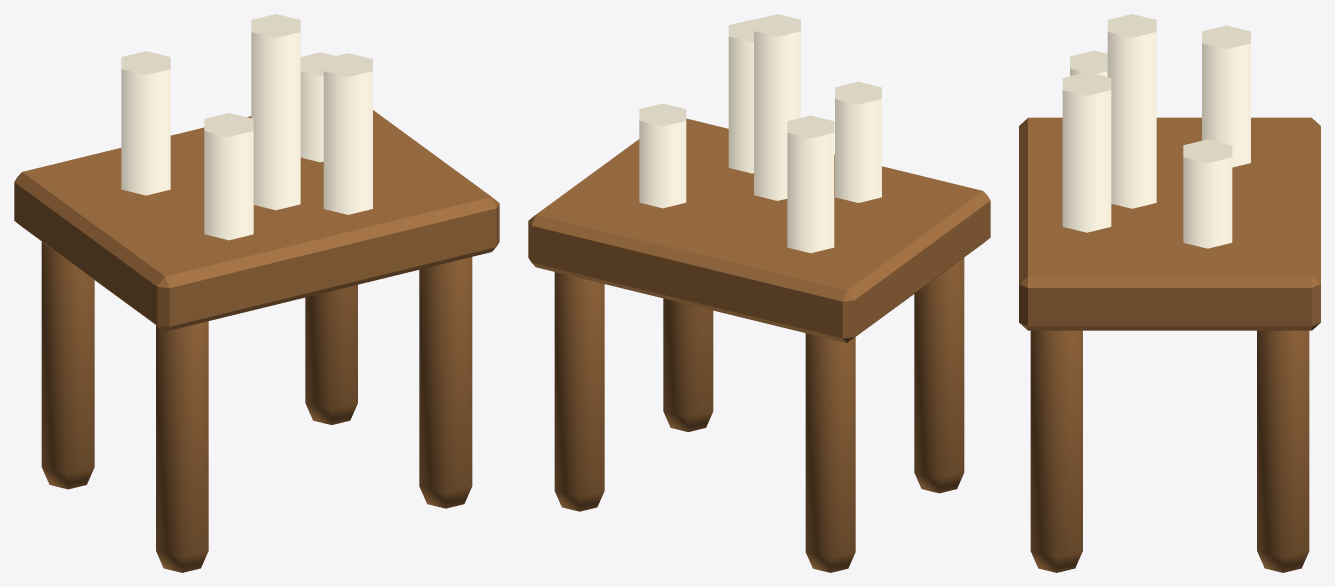
File: prop_candles_e2f1.glb
The picture shows the model from 3 angles, left to right: view 1: azimuth 30°, elevation 25°; view 2: azimuth 150°, elevation 25°; view 3: azimuth 270°, elevation 25°; orthographic projection. The views are drawn at different scales.
Visible parts, largest first — view 1: prop_candles_e2f1; view 2: prop_candles_e2f1; view 3: prop_candles_e2f1.
Boxes of the visible parts, bbox=[...] form: prop_candles_e2f1: bbox=[14, 14, 499, 572]; prop_candles_e2f1: bbox=[528, 14, 990, 572]; prop_candles_e2f1: bbox=[1019, 14, 1320, 572].
Size of the model in its own units: 0.4596 by 0.6232 by 0.3536.
1 material, 1 textured.
